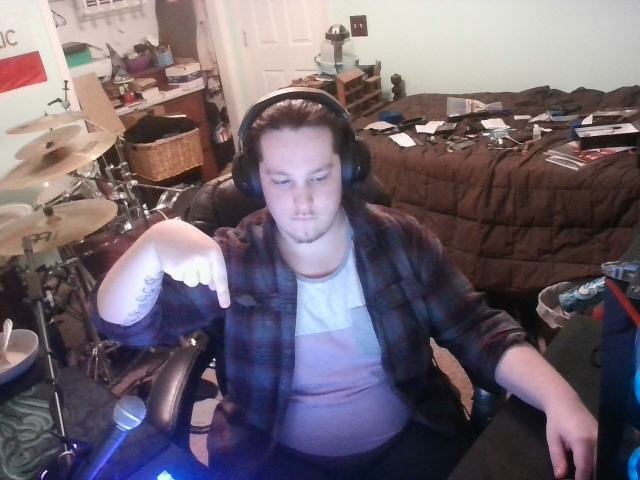down: (117, 205, 251, 345)
